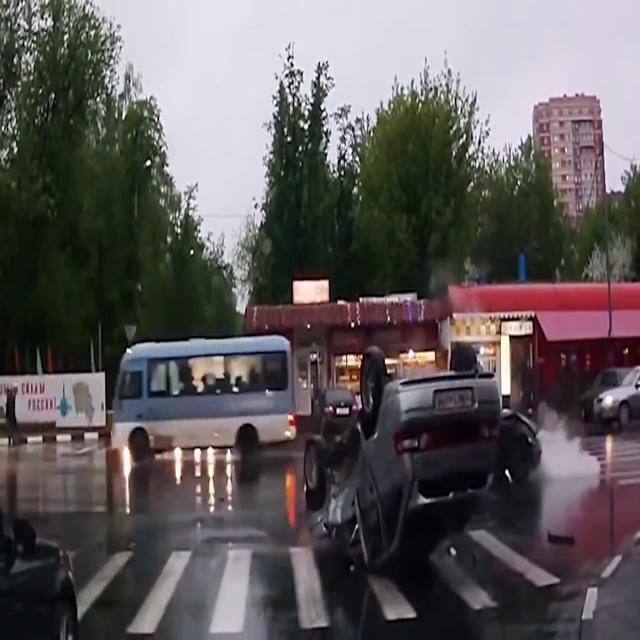accident: (303, 344, 545, 576)
non-accident: (110, 334, 358, 462)
